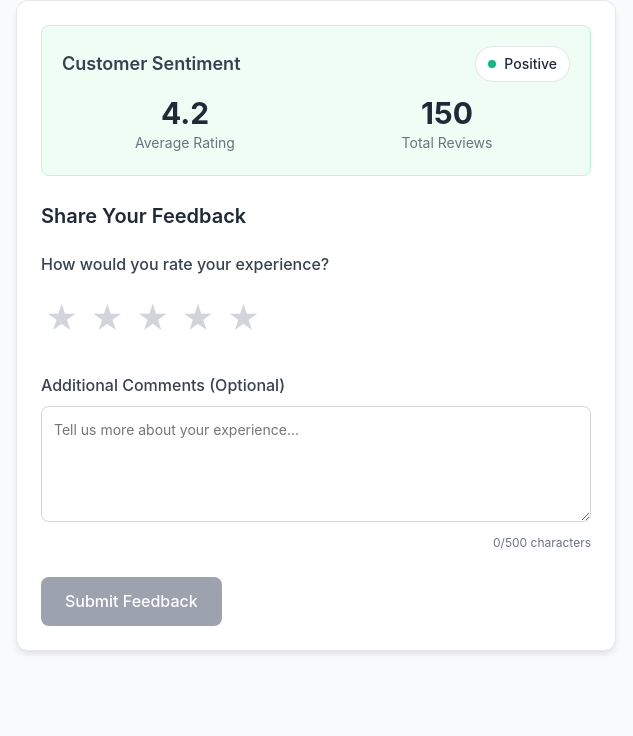
Scenario: CustomerFeedbackWidget › Accessibility › shows success message with proper role
expect the heading "Customer Sentiment" is shown: met, box [62,50,240,79]
Note: Submit feedback
Click the button named "Rate 3 stars": (153, 319) [132,289,173,349]
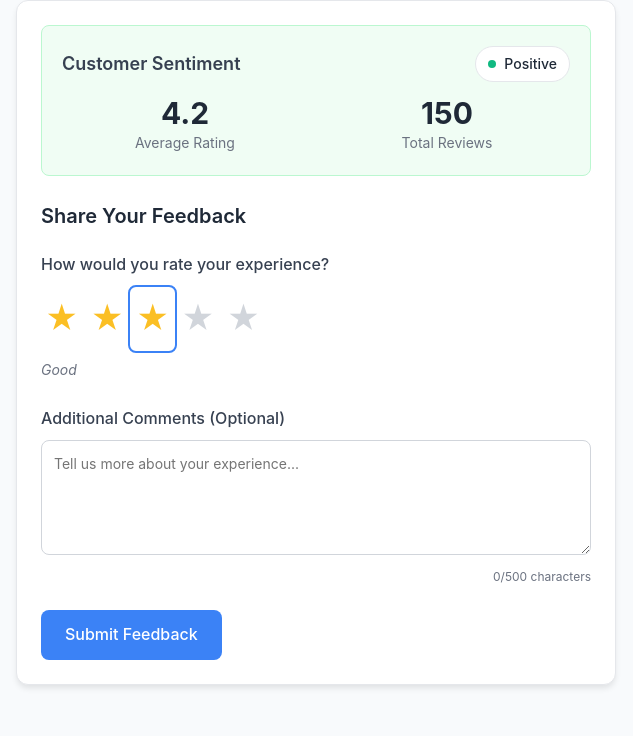
Click the button "Submit Feedback": (131, 635) [41,610,222,660]
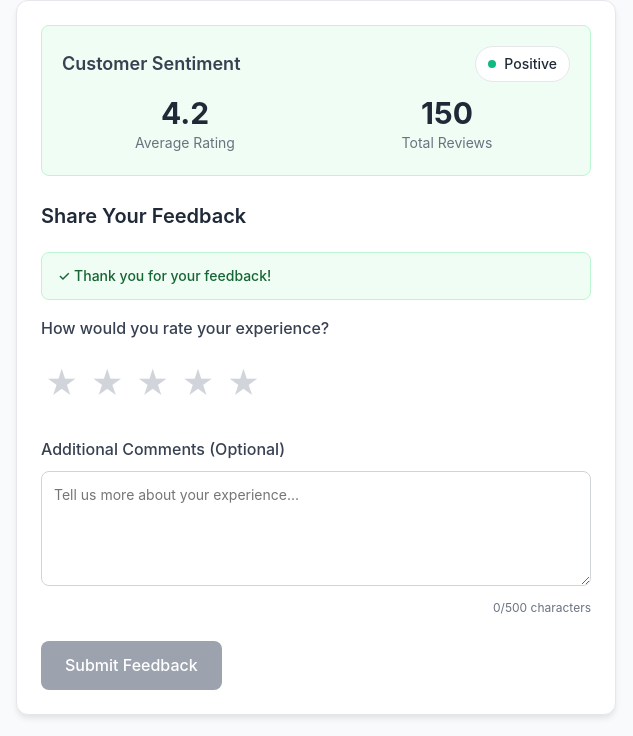
expect the message reads "✓ Thank you for your feedback!": met, box [58,267,271,284]
